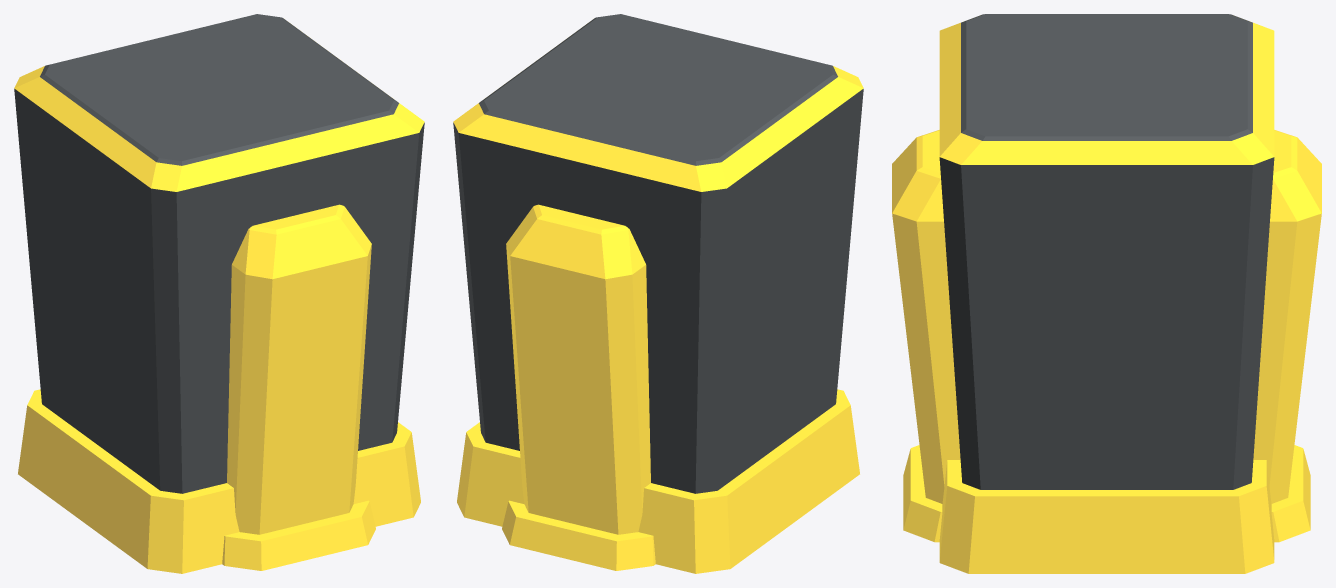
File: religious_pedestal.fbx
3 views of the same model, side by side, from view 1: azimuth 30°, elevation 25°; view 2: azimuth 150°, elevation 25°; view 3: azimuth 270°, elevation 25° (orthographic). The views are drawn at different scales.
Parts seen in each view (by area): view 1: pedistal, substand; view 2: pedistal, substand; view 3: pedistal, substand.
Boxes of the visible parts, x1,y1,x2,y2 form: pedistal: (14, 14, 424, 573); substand: (222, 204, 375, 570); pedistal: (453, 14, 863, 573); substand: (502, 204, 655, 570); pedistal: (939, 14, 1274, 573); substand: (892, 130, 1321, 542).
Bounding box in the file's own units: 2.59 × 3.62 × 3.3.
